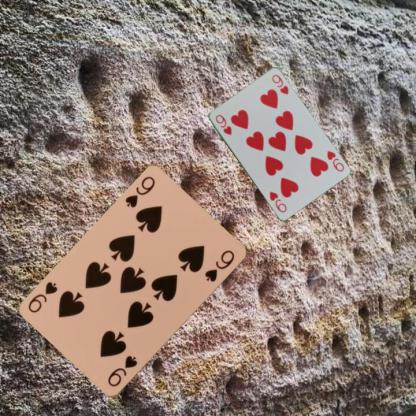9h: (324, 148, 345, 173), (212, 112, 233, 136)
9s: (122, 173, 156, 210), (104, 353, 139, 388)
